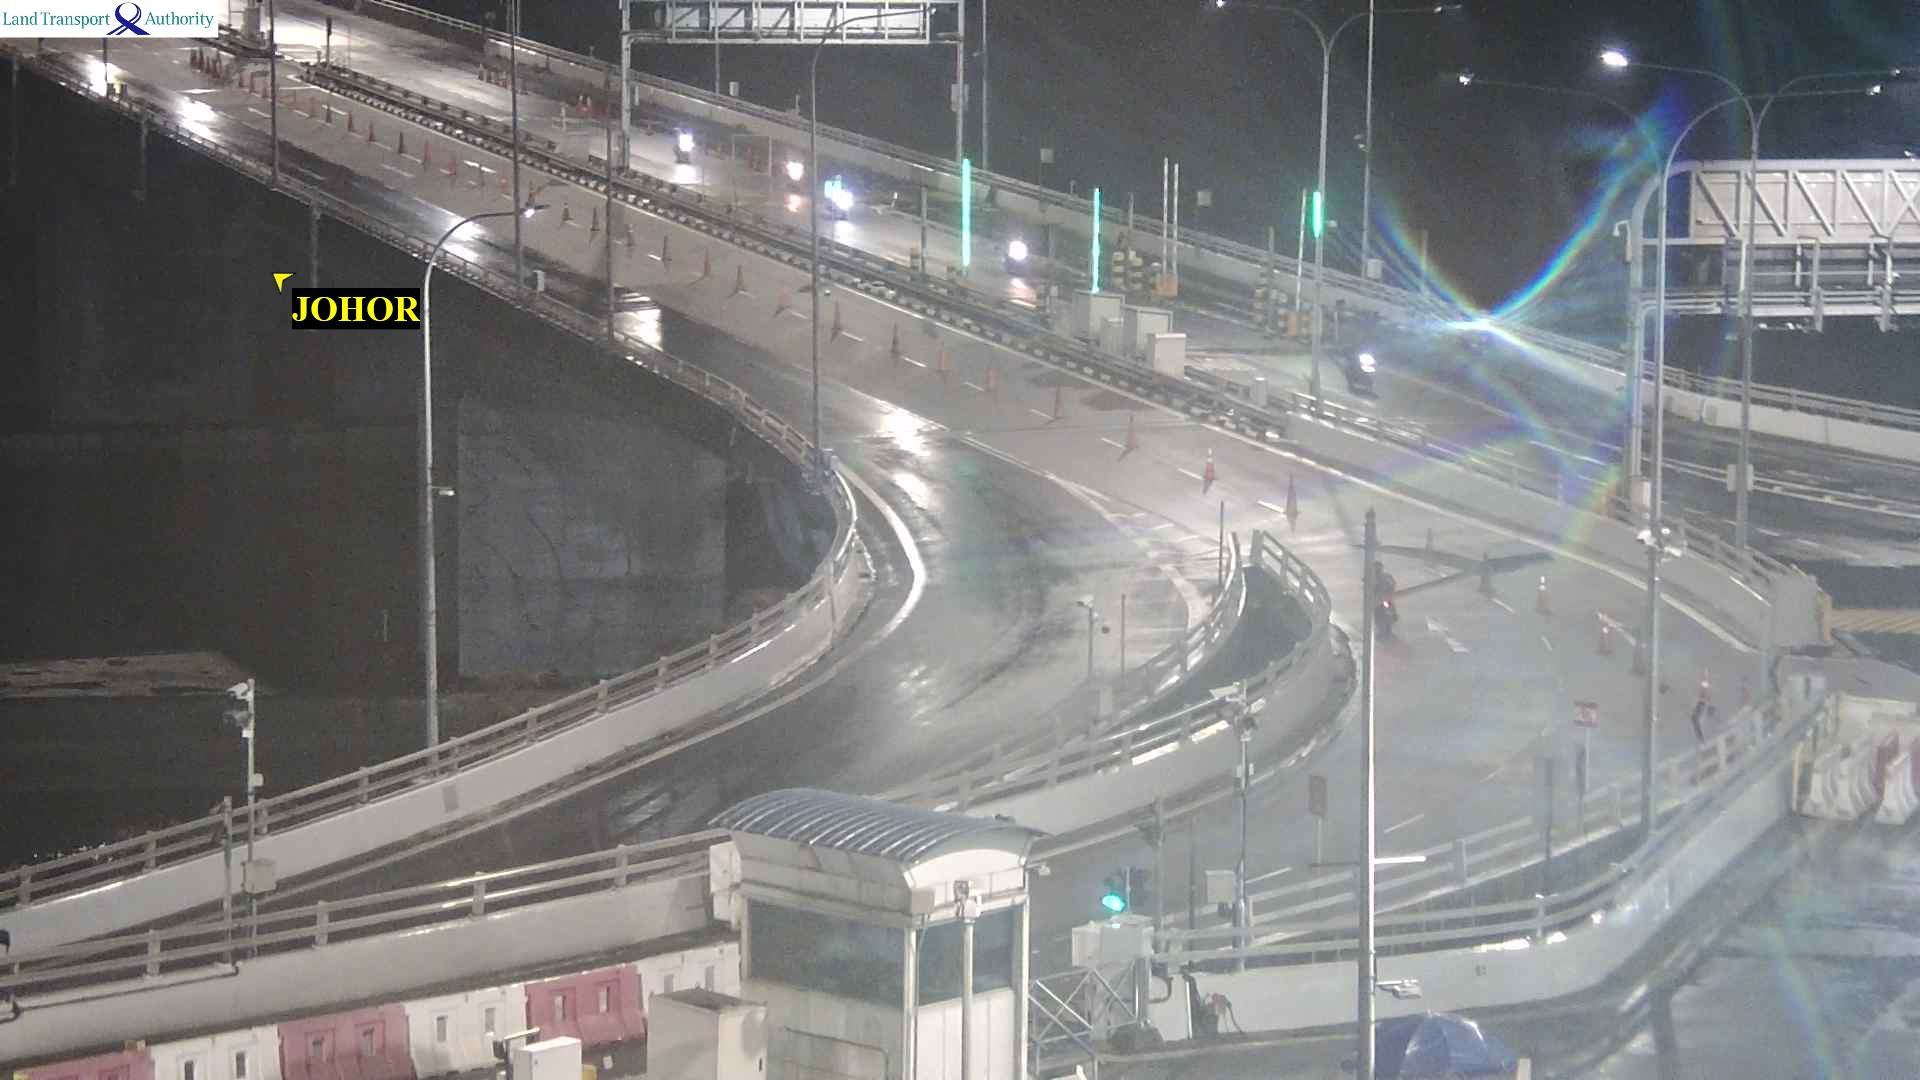vehicle-secondlink-johor: (1373, 560, 1398, 630)
vehicle-secondlink-singapore: (1344, 342, 1377, 392), (1002, 224, 1029, 273), (827, 173, 855, 218), (783, 144, 804, 185), (674, 120, 695, 158)
